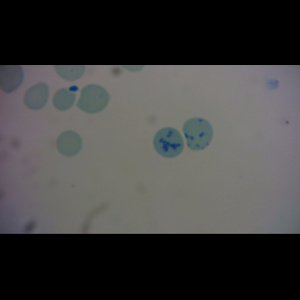aggregate reticulocyte: (182, 116, 215, 152), (152, 126, 185, 159)
erythrocyte: (75, 83, 111, 115), (22, 80, 50, 111), (55, 129, 83, 158), (51, 83, 79, 112)
